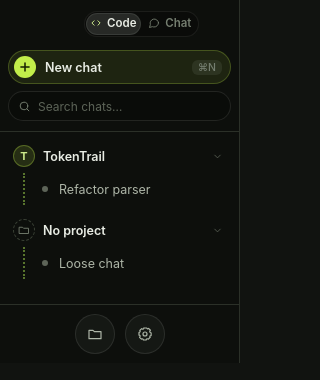
Test case: Sidebar order, timestamps and search › matches project names, hides unrelated groups, and clears with Escape
Type "tokentrail" into the search field labelled "Search chats" at (132, 106), box [38,91,226,121]
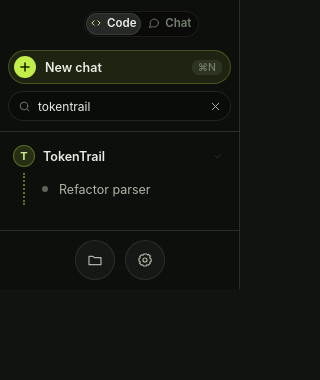
Check: the text "Refactor parser" is shown, box [59,182,150,196]
Check: the text "No project" is gone
Replace the text in the search field named "Search chats" with "missing" at (118, 106), box [38,91,197,121]
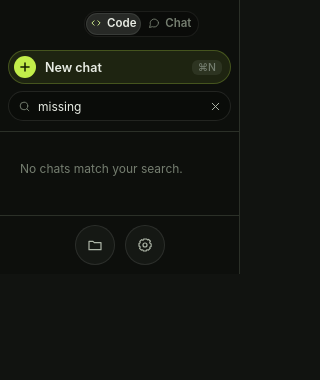
Check: the message reads "No chats match your search.", box [20,161,183,176]
Check: the text "TokenTrail" is gone
Press Escape in the search field named "Search chats", box [38,91,197,121]
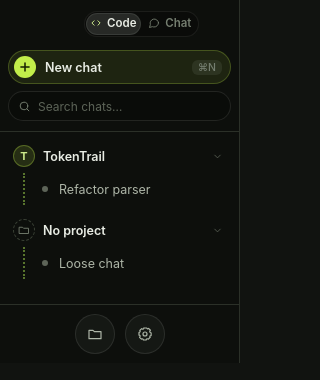
Check: the search field labelled "Search chats" is empty, box [38,91,226,121]
Check: the text "Loose chat" is shown, box [59,256,124,270]
Check: the message "No chats match your search." is gone
